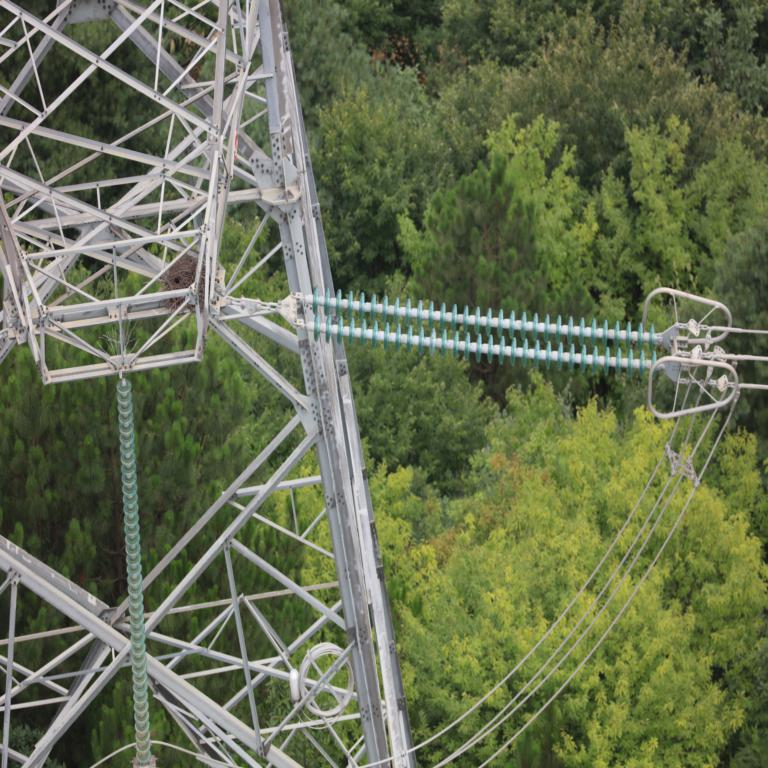nest: (164, 259, 213, 311)
